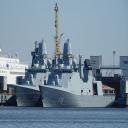Fragata: (39, 37, 118, 111), (11, 24, 48, 109)
